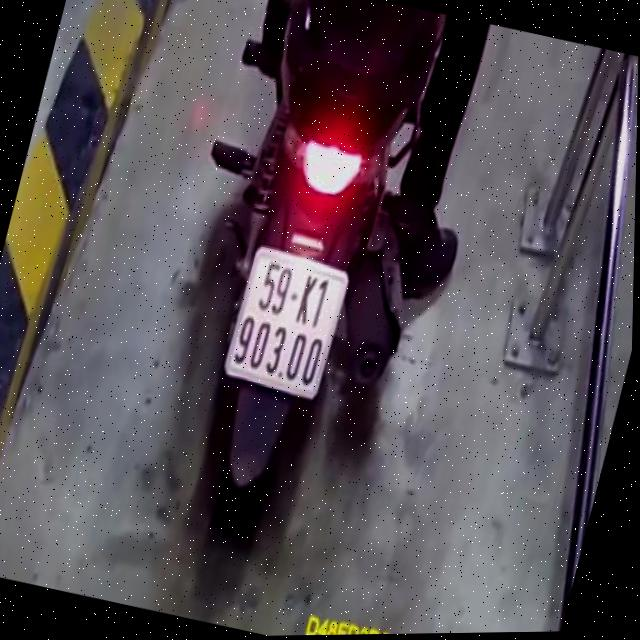motorcycle: (116, 0, 481, 567)
plate: (215, 238, 353, 403)
